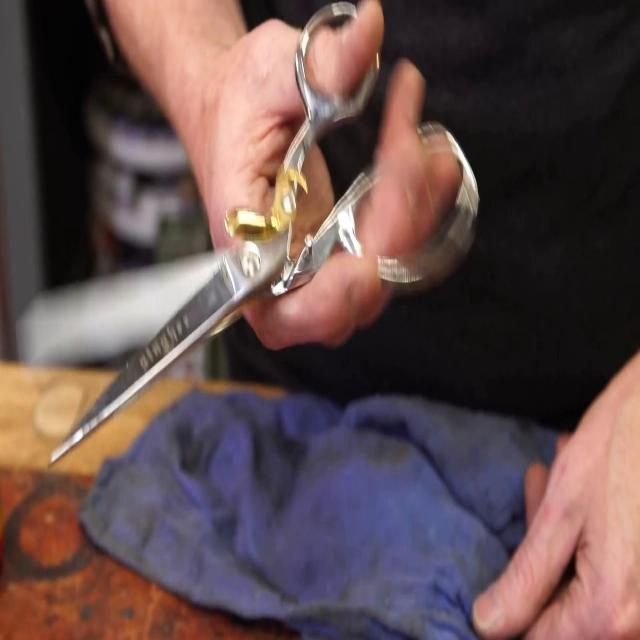scissor: (50, 1, 478, 464)
